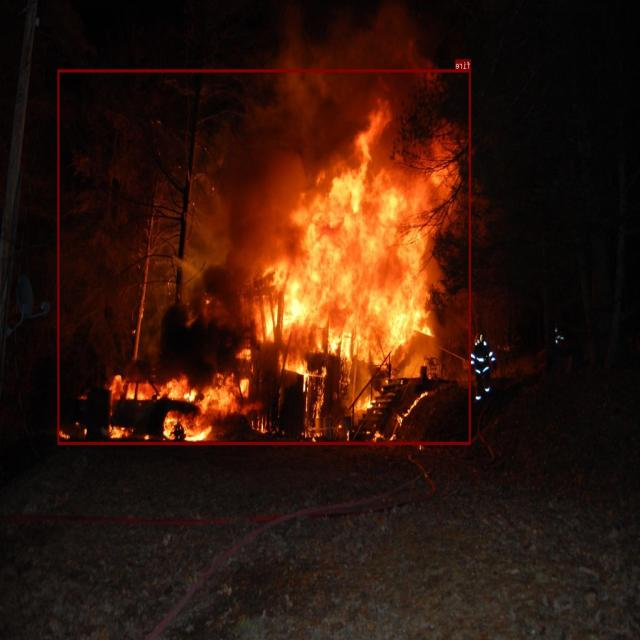fire: (58, 70, 471, 444)
